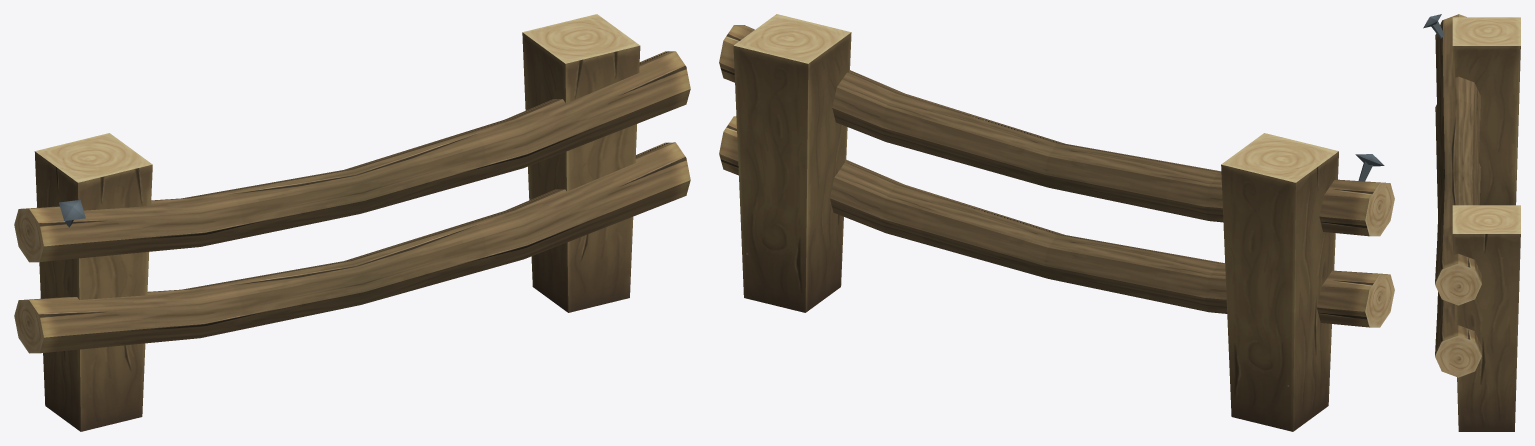
The model's file is wooden_fence_41.fbx.
3 views of the same model, side by side, from view 1: azimuth 30°, elevation 25°; view 2: azimuth 150°, elevation 25°; view 3: azimuth 270°, elevation 25° (orthographic). The views are drawn at different scales.
Parts seen in each view (by area): view 1: wooden_fence_41:Mesh; view 2: wooden_fence_41:Mesh; view 3: wooden_fence_41:Mesh.
Boxes of the visible parts, box(x1,y1,x2,y2) form: wooden_fence_41:Mesh: box(14, 14, 690, 431); wooden_fence_41:Mesh: box(719, 14, 1394, 431); wooden_fence_41:Mesh: box(1423, 14, 1520, 431).
Bounding box in the file's own units: 7.19 × 2.7 × 1.19.
